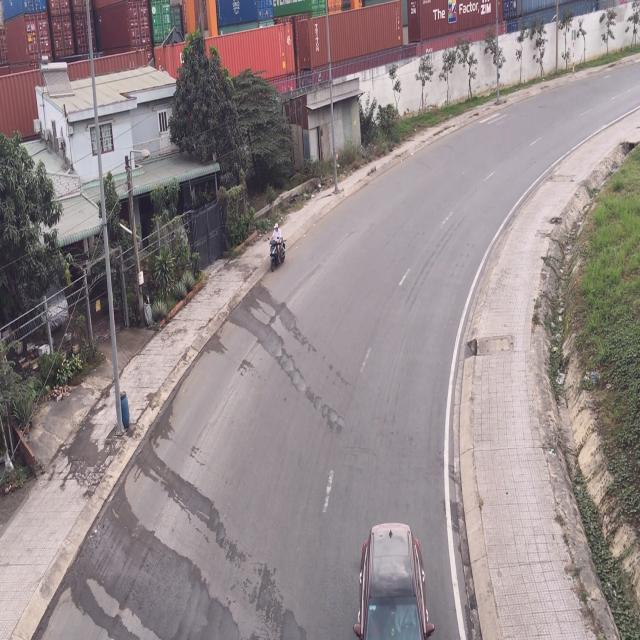car: (350, 519, 426, 639)
motorbike: (270, 226, 288, 275)
